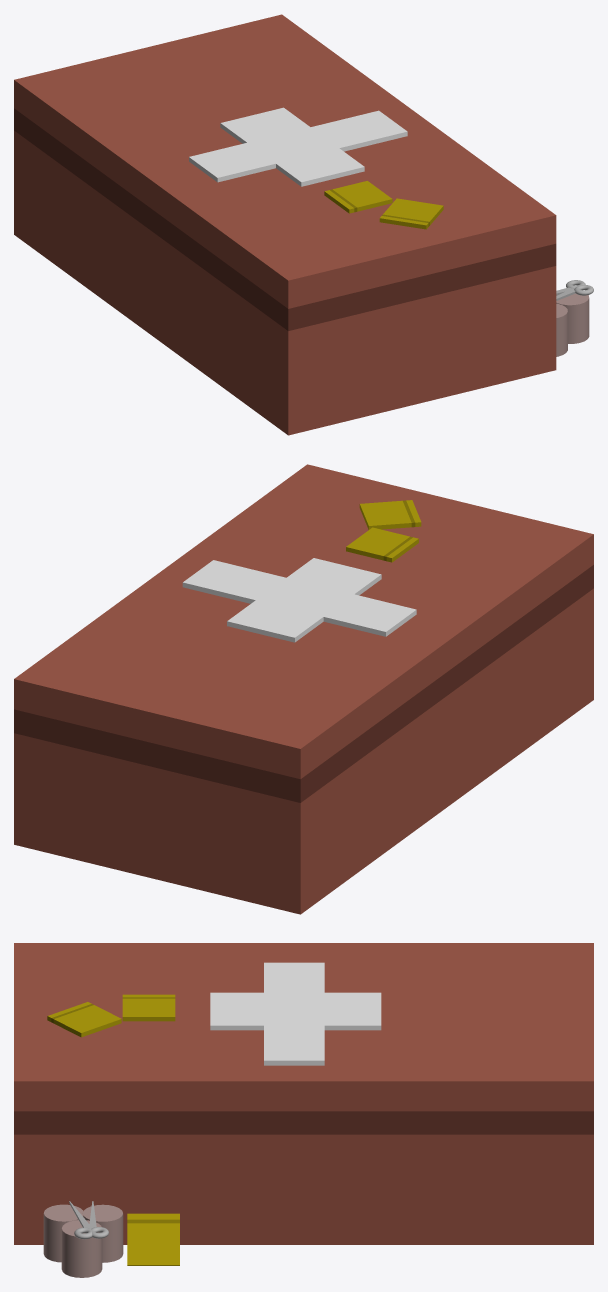
File: Health_Pack (1).fbx
3 views of the same model, one above another, from view 1: azimuth 30°, elevation 25°; view 2: azimuth 150°, elevation 25°; view 3: azimuth 270°, elevation 25° (orthographic). The views are drawn at different scales.
Visible parts, largest first — view 1: pCube1, pCube2, pCube3, pCylinder3, pCylinder1; view 2: pCube1, pCube2, pCube3; view 3: pCube1, pCube4, pCylinder3, pCube3, pCube2, pCylinder2, pCylinder1, pCube7.
Part boxes in pixels (x1,y1,x2,y2): pCube1: [14, 14, 556, 435]; pCube2: [324, 181, 392, 213]; pCube3: [379, 198, 443, 229]; pCylinder3: [556, 293, 589, 343]; pCylinder1: [556, 303, 567, 356]; pCube1: [14, 464, 593, 914]; pCube2: [346, 527, 418, 562]; pCube3: [359, 500, 421, 529]; pCube1: [14, 943, 593, 1244]; pCube4: [127, 1213, 179, 1265]; pCylinder3: [61, 1220, 102, 1277]; pCube3: [47, 1002, 121, 1037]; pCube2: [122, 994, 175, 1021]; pCylinder2: [82, 1204, 123, 1262]; pCylinder1: [43, 1204, 83, 1262]; pCube7: [69, 1201, 108, 1239].
Size of the model in its own units: 5.39 by 2.55 by 7.58.
